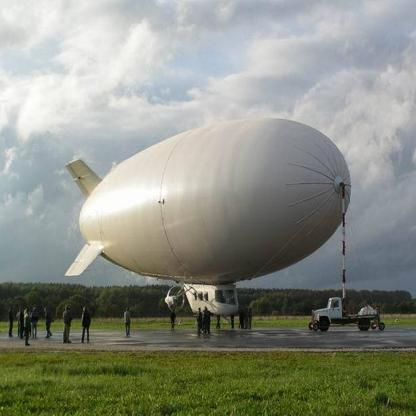Airship: (53, 115, 367, 316)
